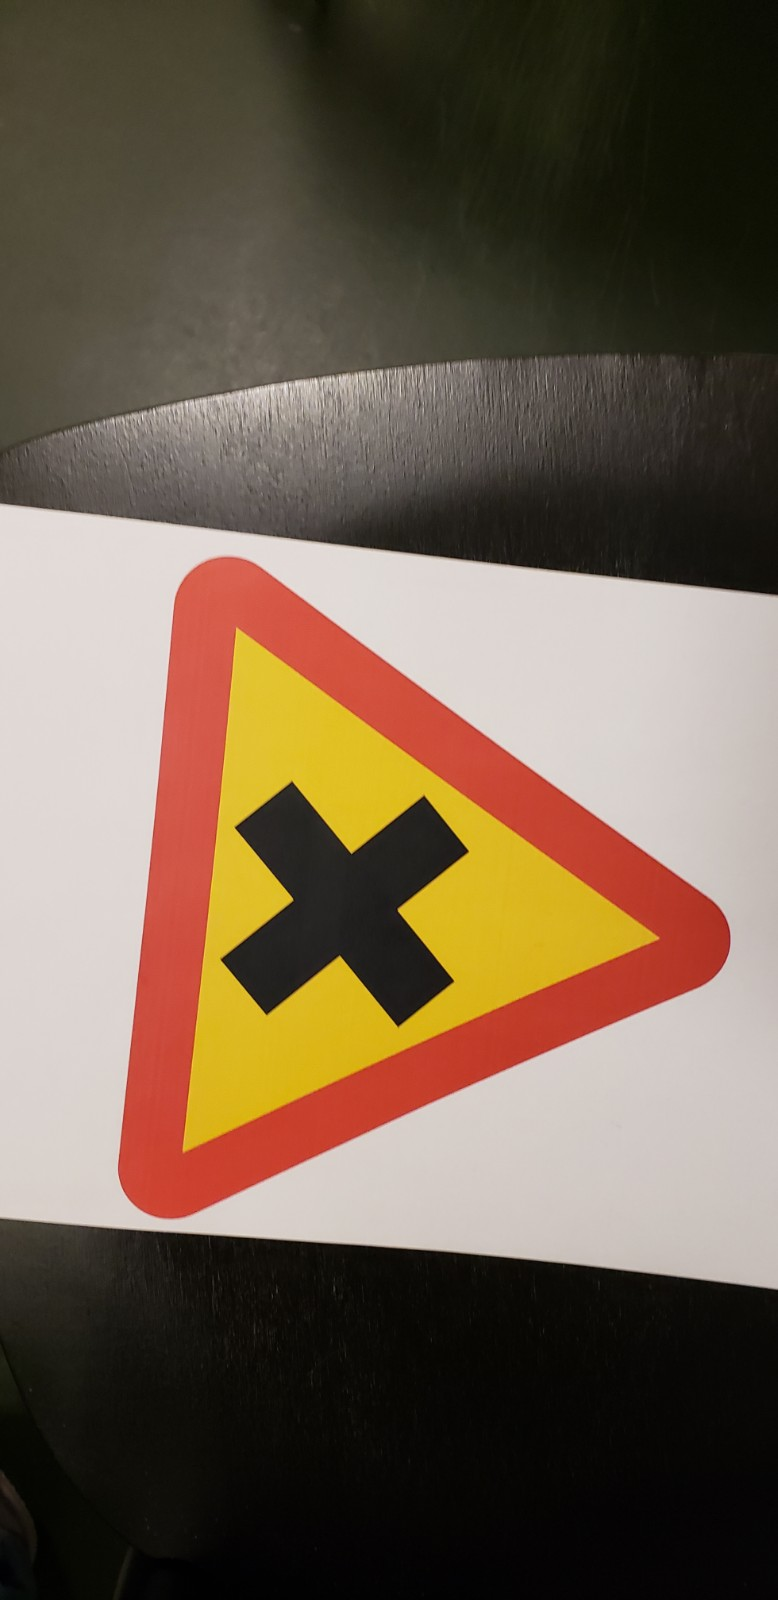junction: (91, 558, 751, 1242)
